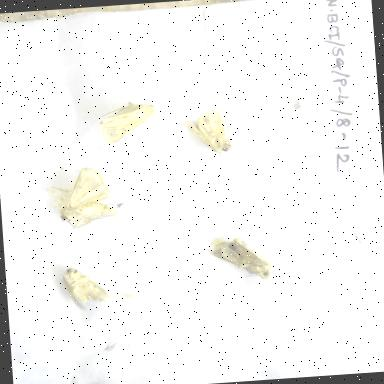abw: (37, 159, 132, 238), (202, 225, 286, 290), (89, 95, 165, 154), (178, 100, 244, 162), (56, 260, 116, 322)
